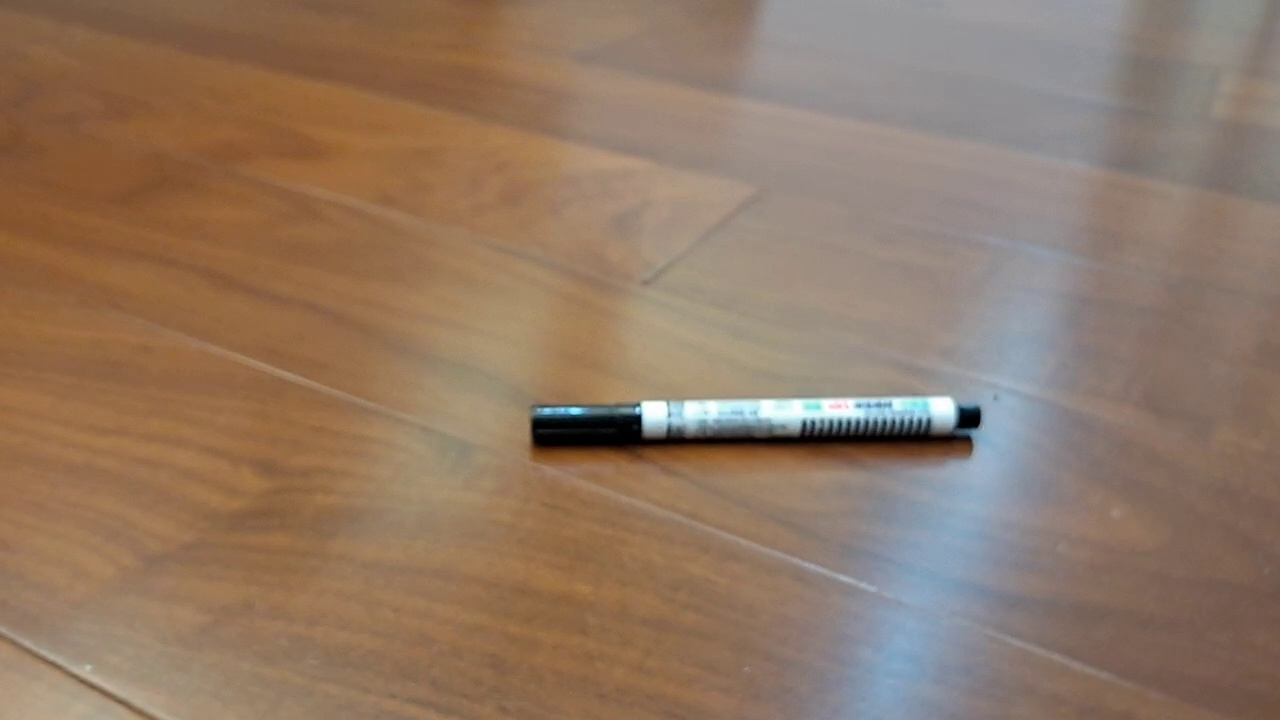pen: (530, 394, 981, 447)
